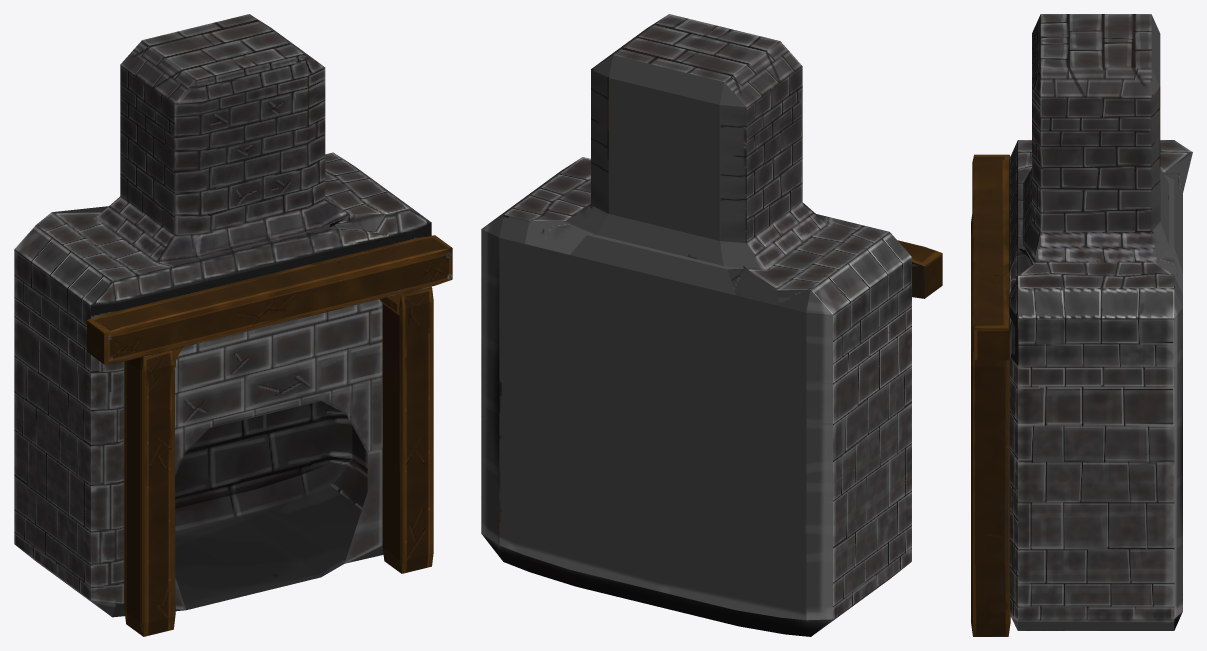
Rendered from fireplace.fbx.
3 renders of one model, left to right at view 1: azimuth 30°, elevation 25°; view 2: azimuth 150°, elevation 25°; view 3: azimuth 270°, elevation 25°, orthographic. The views are drawn at different scales.
Visible parts, largest first — view 1: Cube; view 2: Cube; view 3: Cube.
Boxes of the visible parts, x1=… form: Cube: x1=14, y1=14, x2=452, y2=636; Cube: x1=481, y1=14, x2=942, y2=636; Cube: x1=971, y1=14, x2=1192, y2=636.
Bounding box in the file's own units: 473 × 664 × 255.
1 material, 1 textured.
